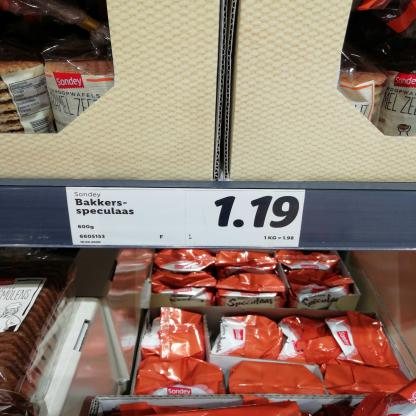prtg: (66, 188, 307, 248)
